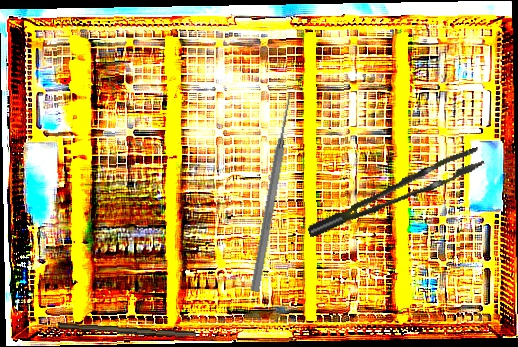Pusher: (248, 92, 297, 293)
Scalpel Handle: (57, 322, 197, 340)
Tissue Forceps: (299, 146, 491, 238)
